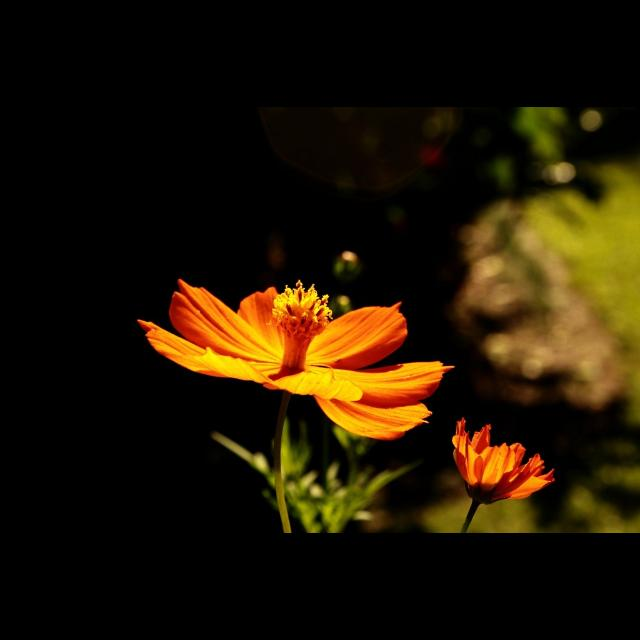Flower: (137, 278, 456, 442), (454, 418, 556, 506)
